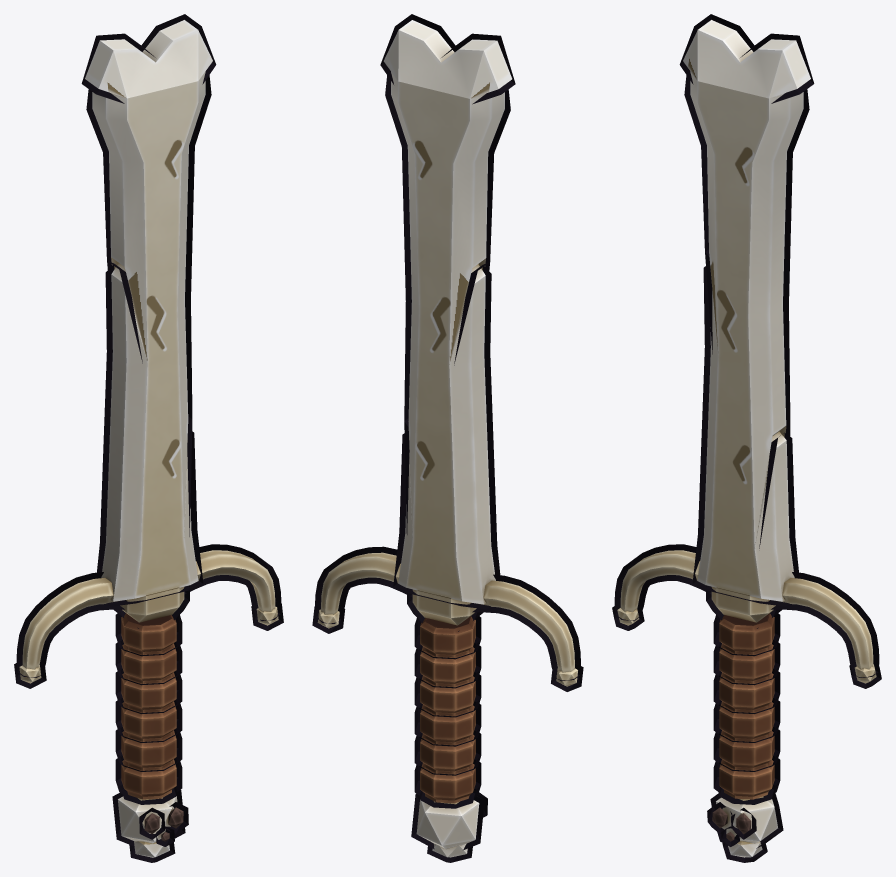
The model's file is BoneSword.fbx.
The picture shows the model from 3 angles, left to right: view 1: azimuth 30°, elevation 25°; view 2: azimuth 150°, elevation 25°; view 3: azimuth 330°, elevation 25°; orthographic projection.
Parts seen in each view (by area): view 1: BoneSword, BoneSwordOutline; view 2: BoneSword, BoneSwordOutline; view 3: BoneSword, BoneSwordOutline.
Part boxes in pixels (box(x1,y1,x2,y2)): BoneSword: box(19, 20, 278, 857); BoneSwordOutline: box(14, 14, 283, 862); BoneSword: box(317, 20, 577, 857); BoneSwordOutline: box(312, 14, 583, 862); BoneSword: box(617, 20, 876, 857); BoneSwordOutline: box(612, 14, 881, 862).
Size of the model in its own units: 112 by 334 by 27.41.
Materials: 2 (1 with a texture image).
